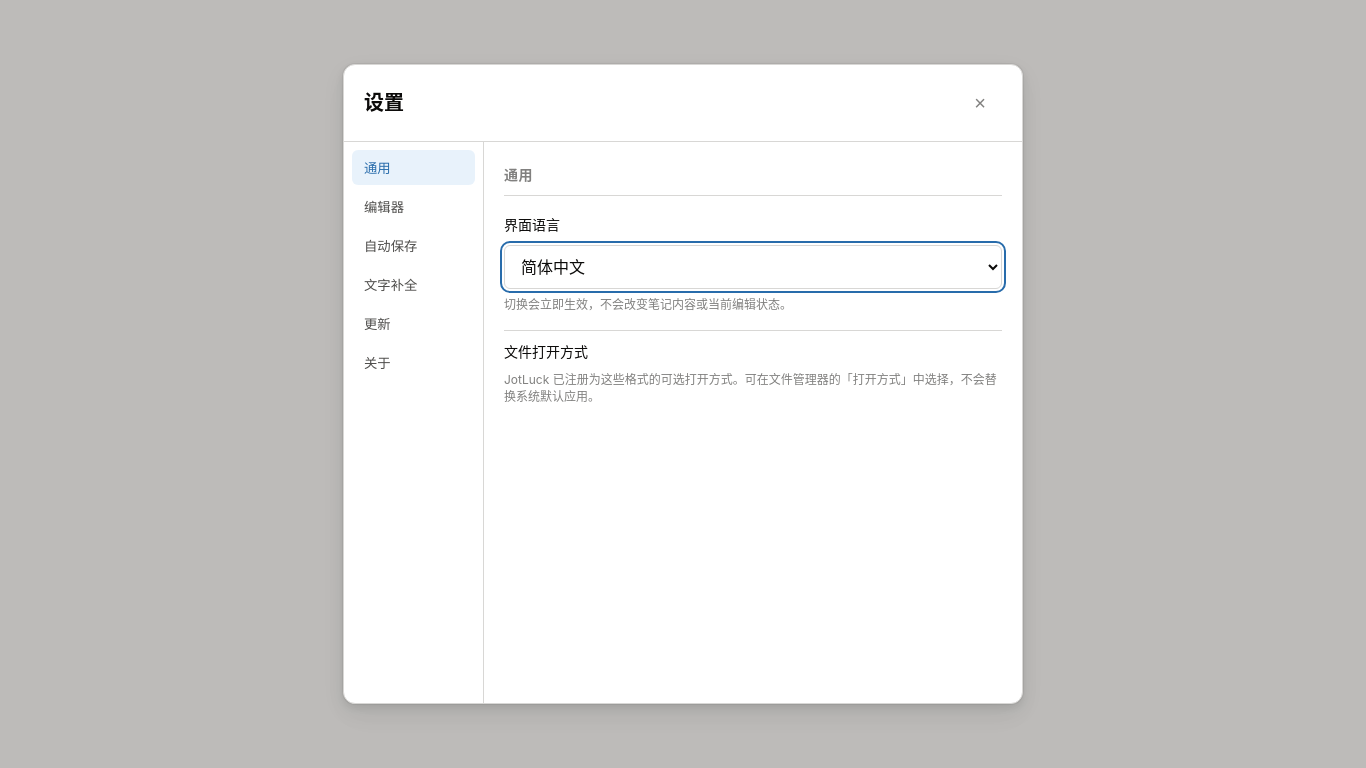
Test: SettingsDialog locale switching › offers every registered locale and switches immediately without moving focus
Select "简体中文" in the dropdown with id "settings-language". click: coordinates (753, 267)
box: [504,245,1002,289]
Expected: the heading with id "settings-dialog-title" reads "设置", [364,91,404,115]
Select "English" in the dropdown with id "settings-language". click: coordinates (753, 267)
box: [504,245,1002,289]
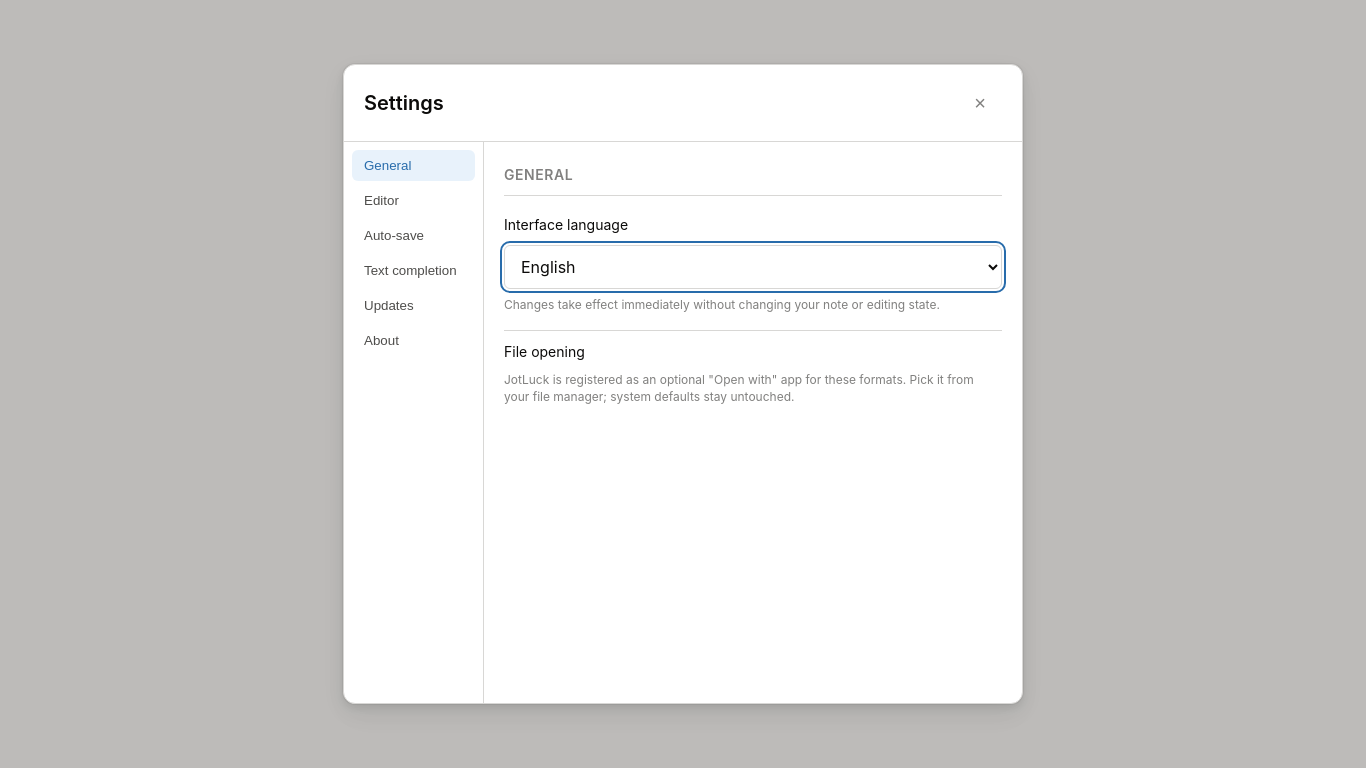
Expected: the heading with id "settings-dialog-title" reads "Settings", [364,91,444,115]
Select "日本語" in the dropdown with id "settings-language". click: coordinates (753, 267)
box: [504,245,1002,289]
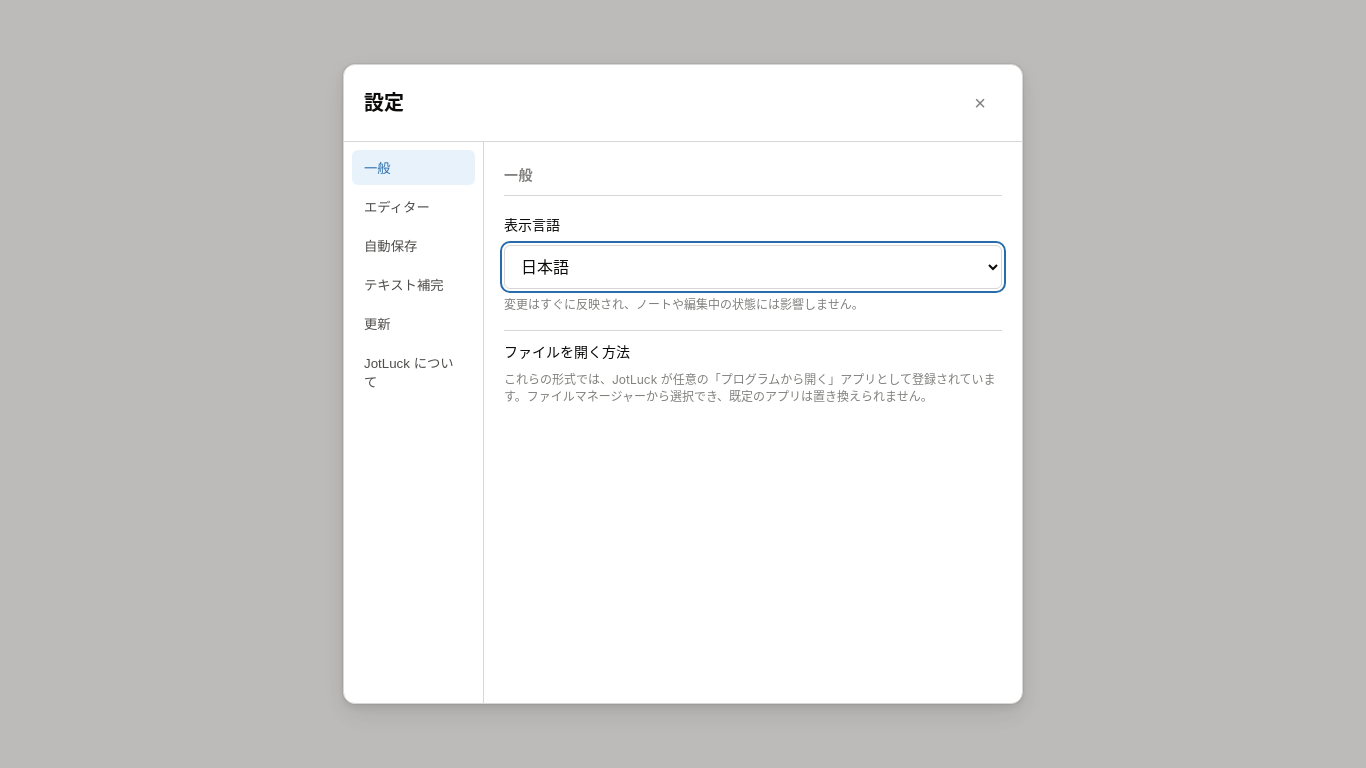
Expected: the heading with id "settings-dialog-title" reads "設定", [364,91,404,115]
Select "한국어" in the dropdown with id "settings-language". click: coordinates (753, 267)
box: [504,245,1002,289]
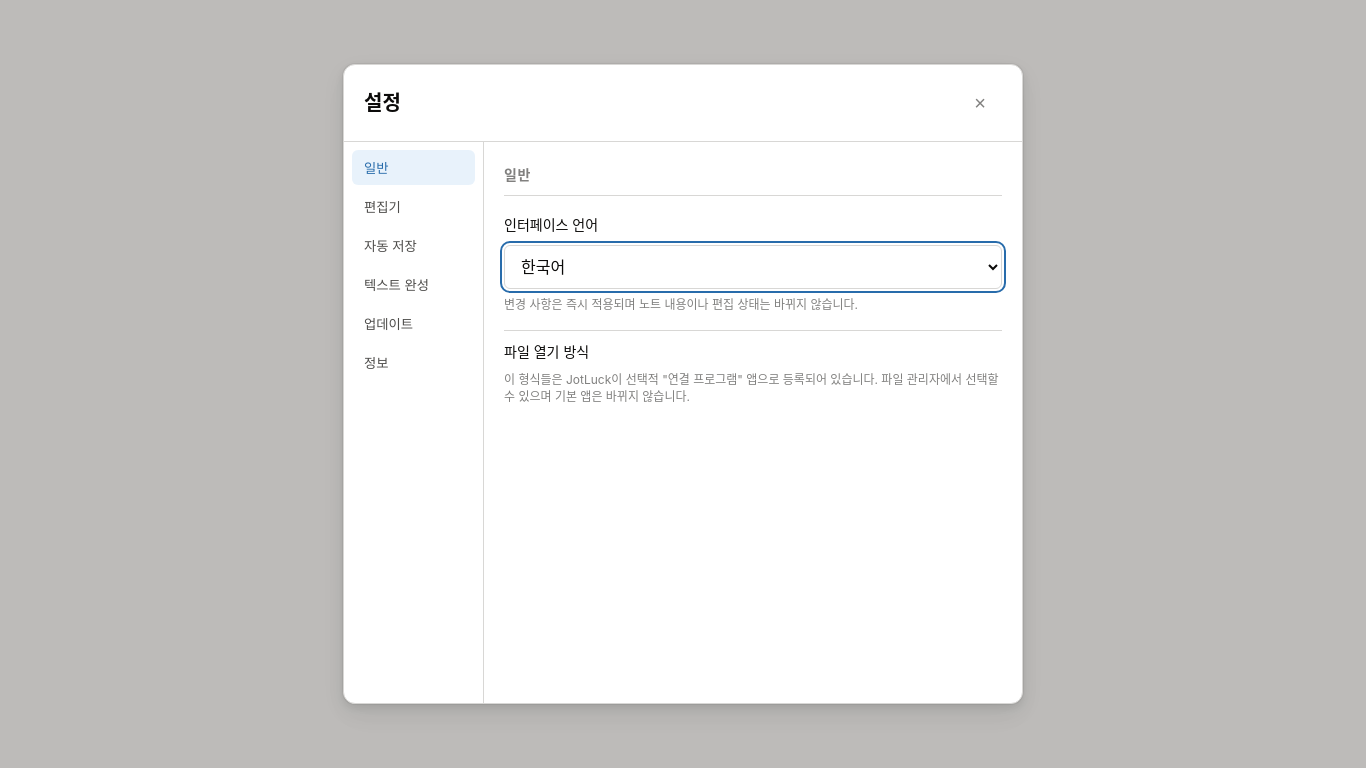
Expected: the heading with id "settings-dialog-title" reads "설정", [364,91,401,115]
Select "Français" in the dropdown with id "settings-language". click: coordinates (753, 267)
box: [504,245,1002,289]
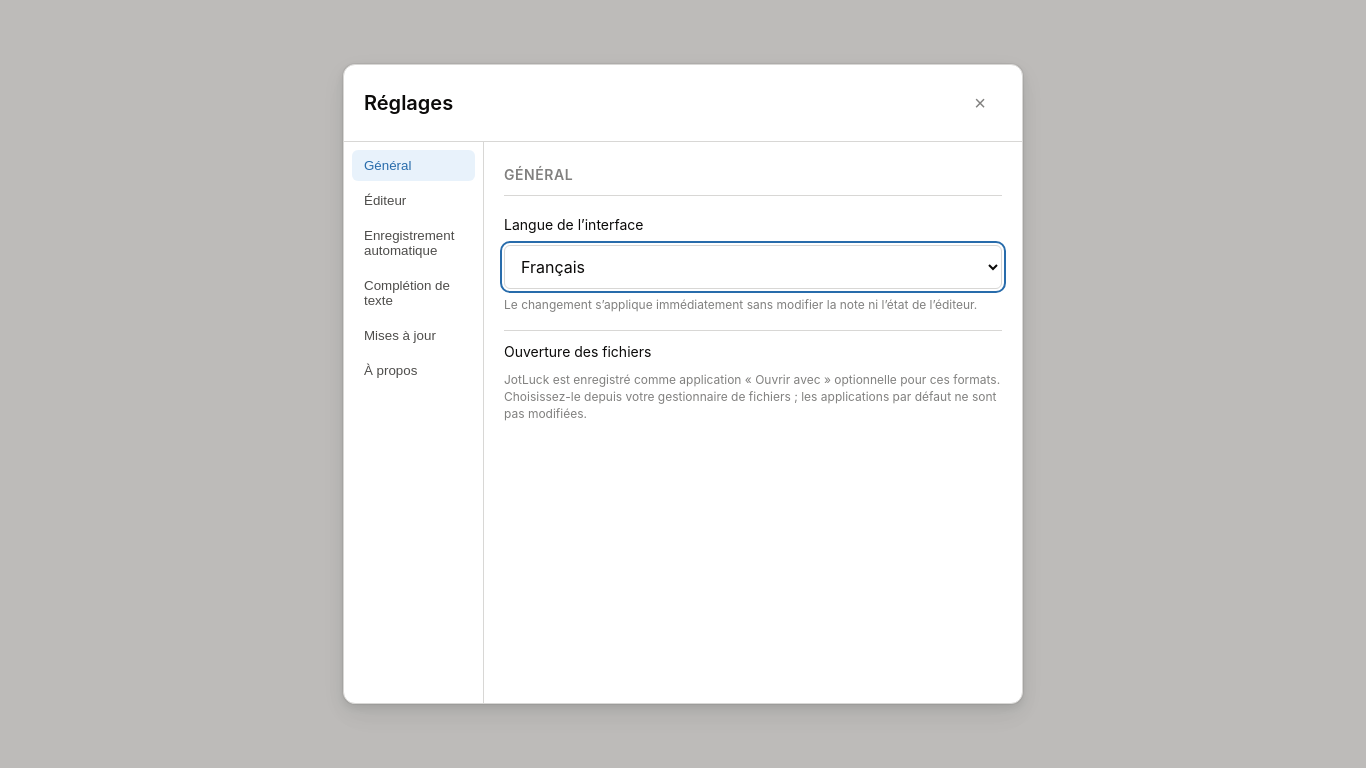
Expected: the heading with id "settings-dialog-title" reads "Réglages", [364,91,453,115]
